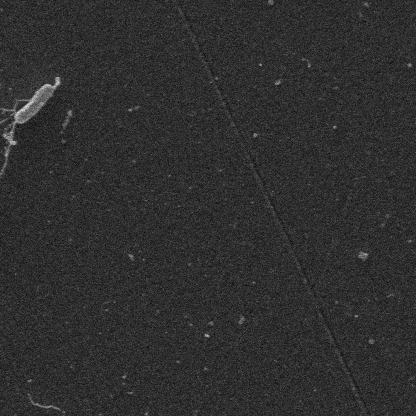cell2surface: (0, 122, 22, 181), (0, 112, 12, 157)
regular: (13, 81, 57, 124)
